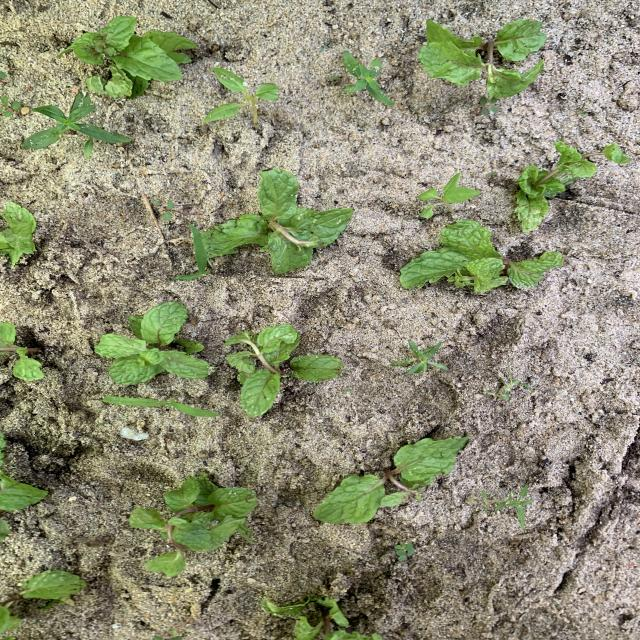crop: (200, 169, 354, 275), (315, 436, 469, 523), (131, 474, 257, 575), (399, 220, 562, 291), (225, 325, 343, 415), (62, 17, 196, 96), (515, 142, 630, 233), (419, 19, 547, 100), (95, 304, 211, 385), (262, 595, 381, 639), (1, 572, 85, 633), (0, 323, 43, 379), (0, 203, 35, 266), (1, 471, 47, 511)
weed: (23, 95, 130, 147), (203, 67, 279, 130), (343, 50, 395, 106), (418, 173, 480, 219), (104, 396, 219, 415), (174, 224, 209, 279), (391, 342, 447, 374), (496, 484, 532, 528), (486, 371, 520, 401), (151, 199, 178, 220), (472, 96, 498, 117), (1, 95, 21, 115), (395, 542, 415, 562), (480, 490, 496, 511)
